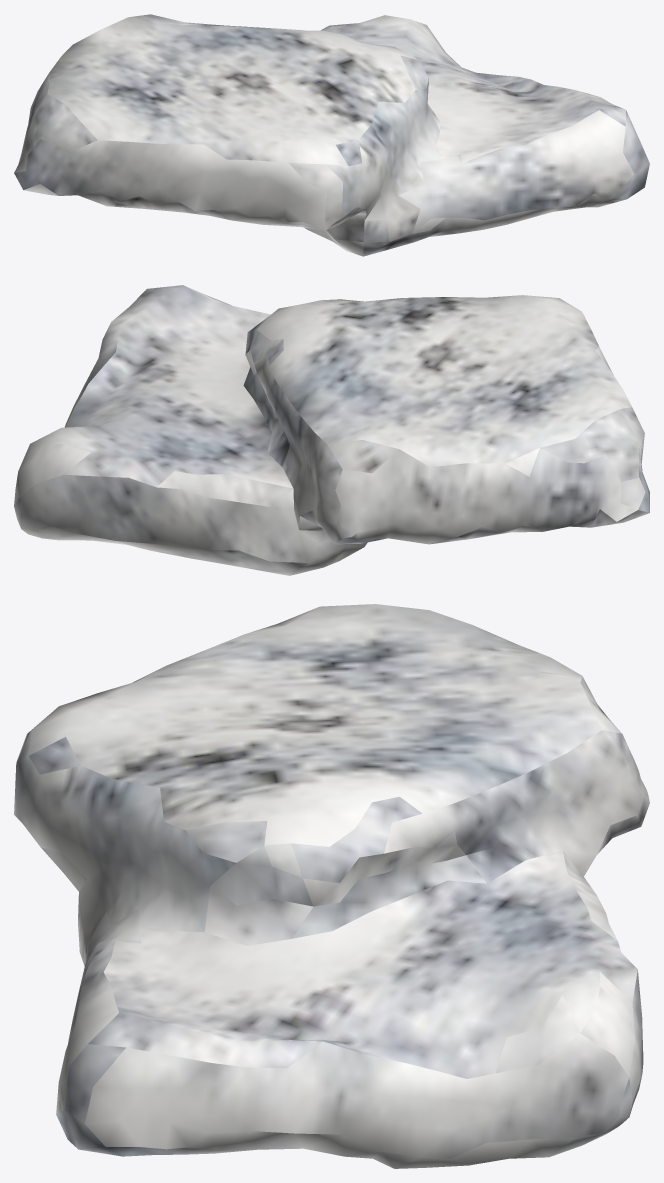
Rendered from plataforma_3.obj.
3 renders of one model, top to bottom at view 1: azimuth 30°, elevation 25°; view 2: azimuth 150°, elevation 25°; view 3: azimuth 270°, elevation 25°, orthographic. The views are drawn at different scales.
Visible parts, largest first — view 1: plataforma_3; view 2: plataforma_3; view 3: plataforma_3.
Boxes of the visible parts, x1,y1,x2,y2 form: plataforma_3: [14, 14, 649, 256]; plataforma_3: [14, 285, 649, 575]; plataforma_3: [14, 604, 649, 1168].
Size of the model in its own units: 2.65 by 0.7934 by 1.81.
Materials: 1 (1 with a texture image).
